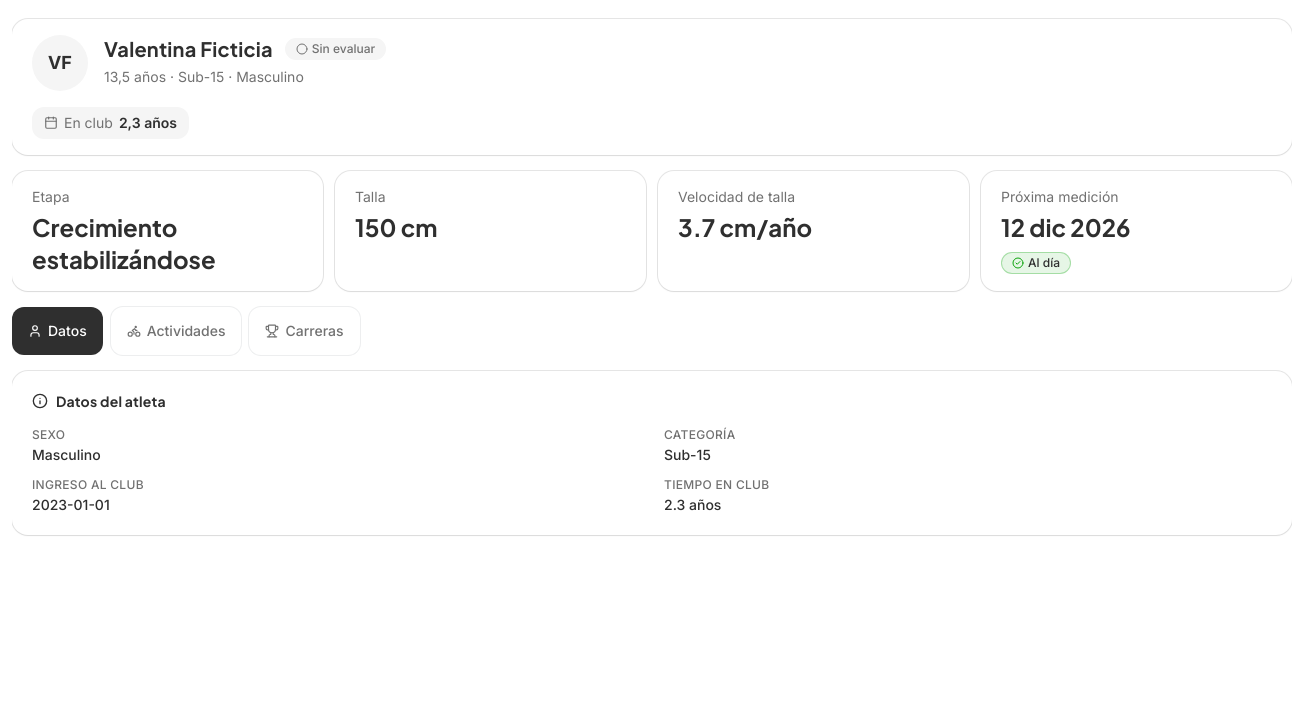
Test case: MyAthleteDetailPage — Carreras › Progresión (padre, features 044 US7 + 045) › category_change_kind='promotion': explica el ascenso con la redacción exacta acordada con el líder
Click the button with test id "parent-tab-races" at (304, 331), box [250,307,360,355]
(page scrolled)
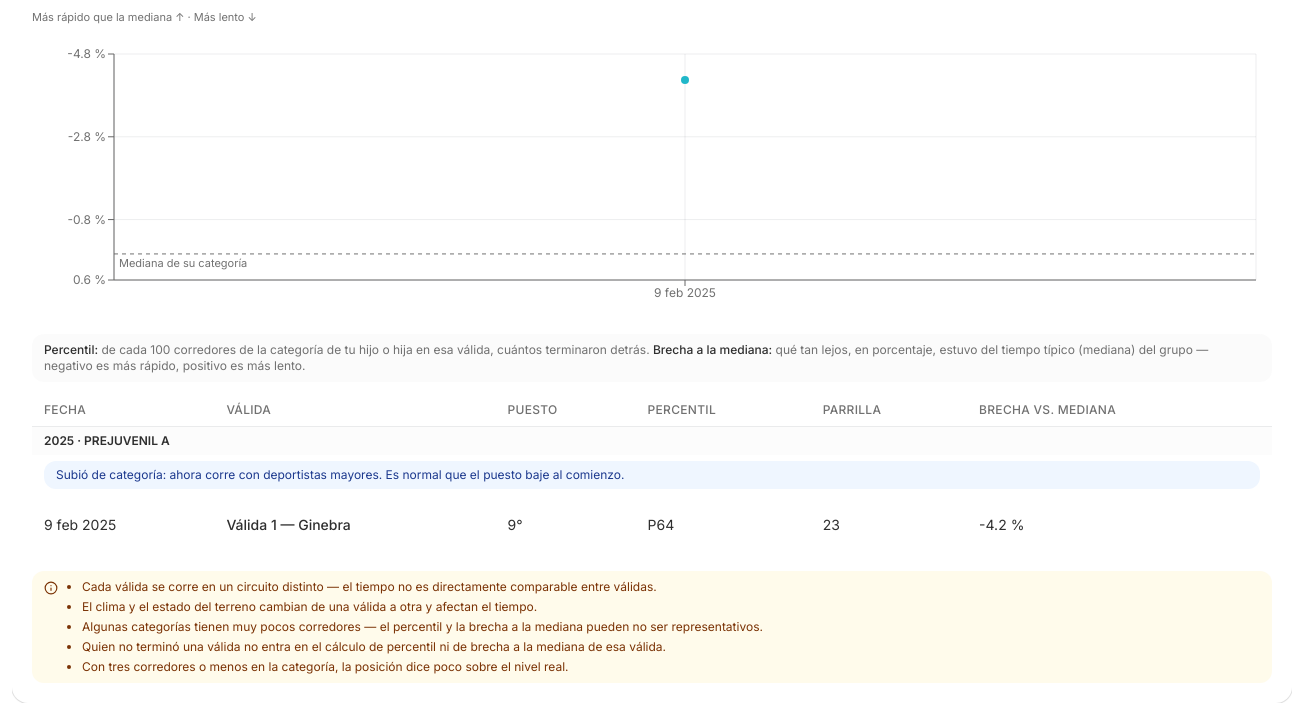
Result: the text with test id "^history-family-category-note-(?!mobile-)" shows "Subió de categoría: ahora corre con deportistas mayores. Es normal que el puesto baje al comienzo." at [56,466,624,482]
